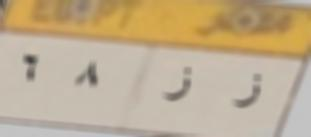6: (10, 46, 47, 86)
8: (72, 58, 110, 93)
zay: (228, 68, 274, 118), (157, 66, 202, 107)
